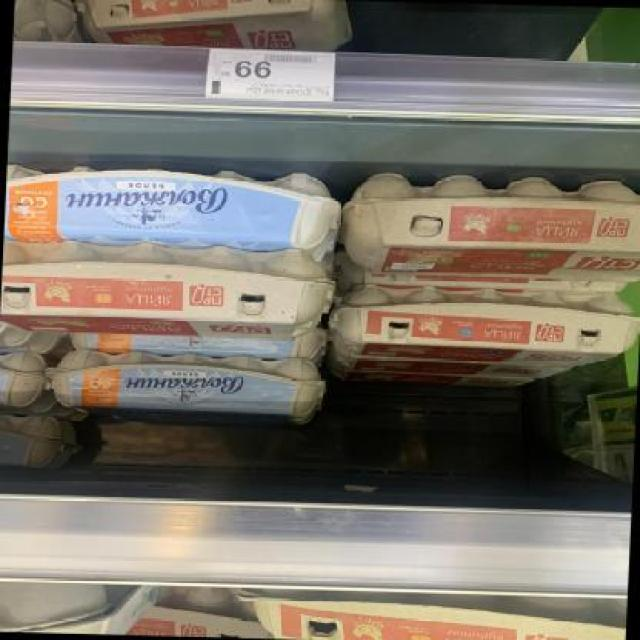egg: (1, 238, 337, 340), (342, 171, 640, 281), (329, 281, 640, 374)
